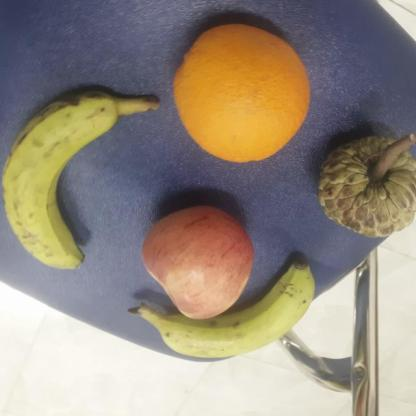annona: (316, 134, 416, 245)
apple: (140, 202, 252, 321)
banana: (0, 82, 109, 274)
orange: (170, 21, 315, 165)
